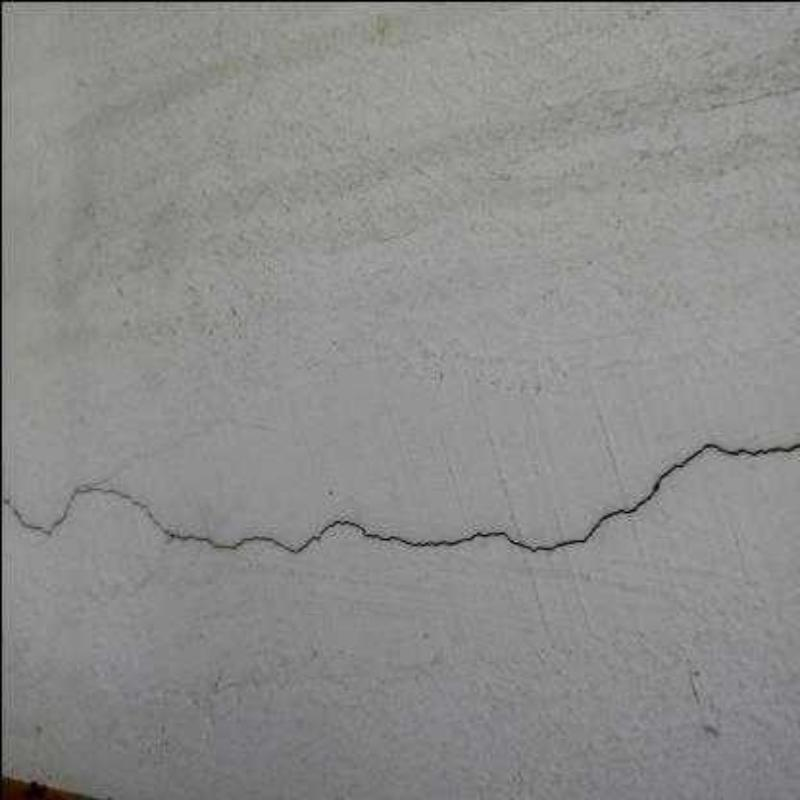pothole: (2, 443, 800, 554)
